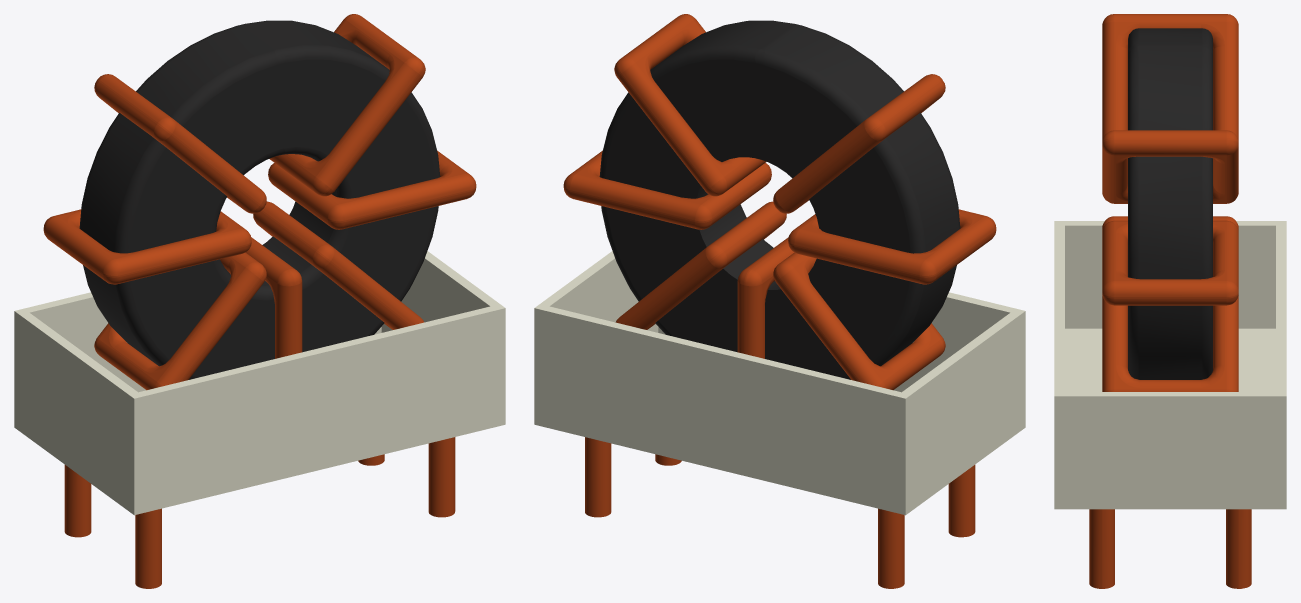
Rendered from kc-l_commonmode_toroid_vertical_l19.3mm_w10.8mm_px6.35mm_py15.24mm_bourns_8100.glb.
The picture shows the model from 3 angles, left to right: view 1: azimuth 30°, elevation 25°; view 2: azimuth 150°, elevation 25°; view 3: azimuth 270°, elevation 25°; orthographic projection. The views are drawn at different scales.
Visible parts, largest first — view 1: 0.75_0.75_0.6666666666666666_0, 0_0_0_0, 0.4166666666666667_0.08333333333333333_0_0; view 2: 0_0_0_0, 0.75_0.75_0.6666666666666666_0, 0.4166666666666667_0.08333333333333333_0_0; view 3: 0.75_0.75_0.6666666666666666_0, 0.4166666666666667_0.08333333333333333_0_0, 0_0_0_0.
Part boxes in pixels (<box>): 0.75_0.75_0.6666666666666666_0: <box>14,251,505,515</box>; 0_0_0_0: <box>79,20,440,379</box>; 0.4166666666666667_0.08333333333333333_0_0: <box>43,14,476,588</box>; 0_0_0_0: <box>599,20,960,379</box>; 0.75_0.75_0.6666666666666666_0: <box>534,251,1025,515</box>; 0.4166666666666667_0.08333333333333333_0_0: <box>563,14,996,588</box>; 0.75_0.75_0.6666666666666666_0: <box>1054,221,1286,509</box>; 0.4166666666666667_0.08333333333333333_0_0: <box>1089,14,1251,588</box>; 0_0_0_0: <box>1128,28,1212,379</box>.
Size of the model in its own units: 1.93 by 2.41 by 1.08.
